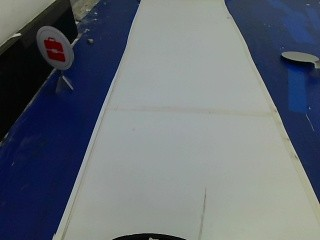company: (34, 25, 74, 71)
